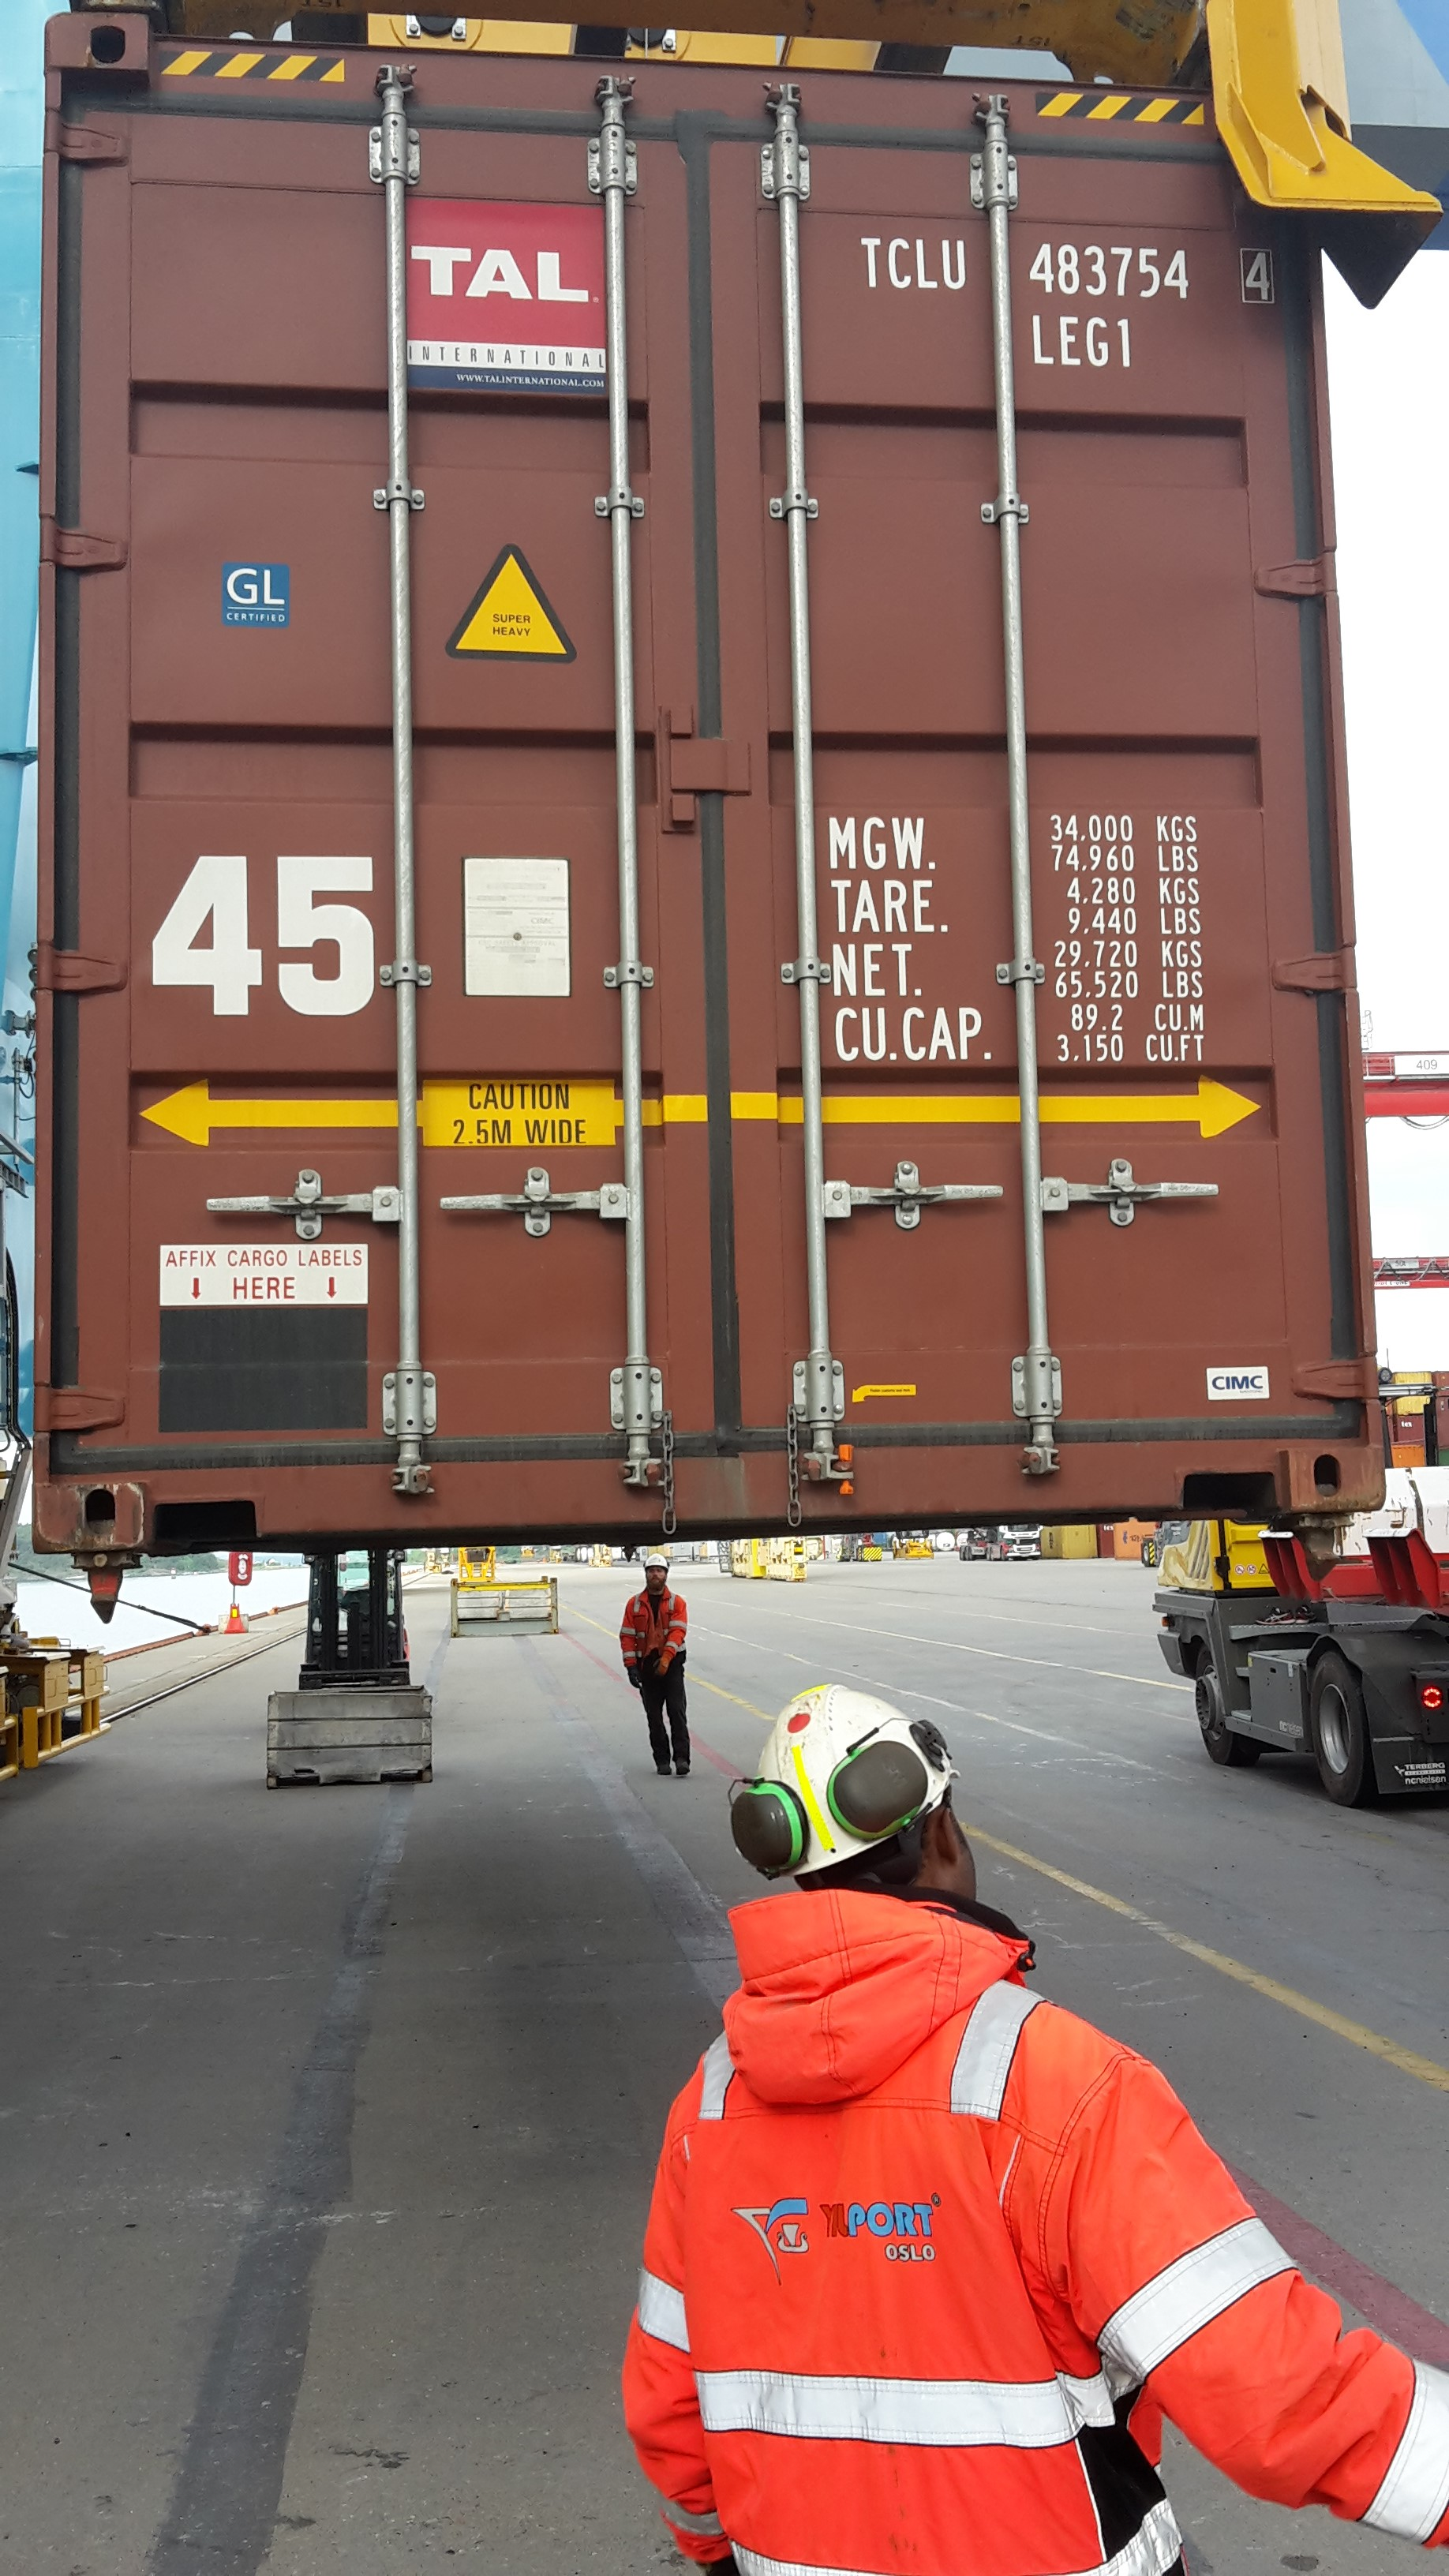container_door: (25, 42, 1371, 1552)
twist_lock_1: (1281, 1481, 1408, 1605), (65, 1527, 172, 1644)
